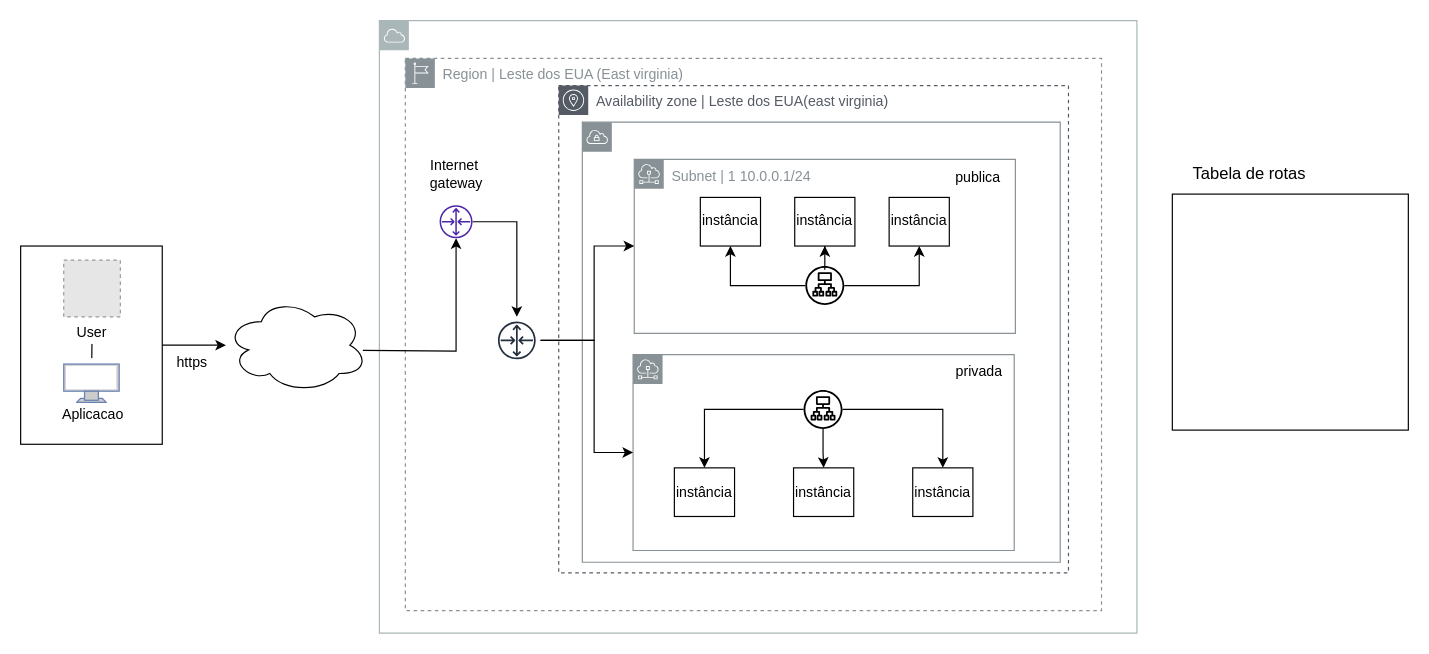
The diagram is 1429 pixels wide and 654 high, and some of its shapes have lost their labels. Grey dashed boxes stand in for pictures. The shapes that lost their labels are listed below. From the top down, each one's box as (x1, y1, x2, y2) in pixels, then its label:
(225, 297, 368, 392): internet
(492, 316, 540, 364): Router
(378, 19, 1137, 633): AWS Cloud
(581, 121, 1060, 562): VPC | 10.0.0.0 / 23
(632, 353, 1014, 550): Subnet 2 | 10.0.1.0/24
